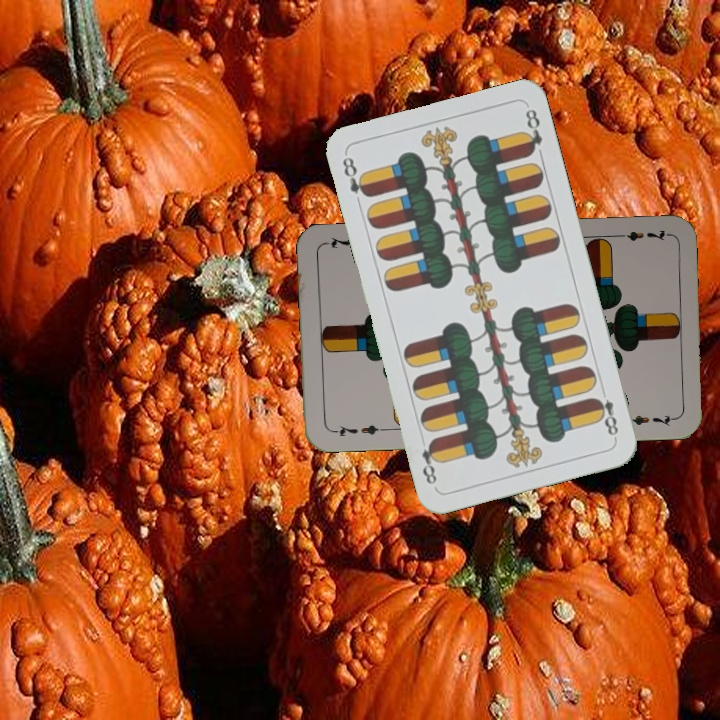E7: (328, 420, 387, 439), (611, 225, 670, 244)
E8: (338, 153, 372, 200), (590, 393, 621, 441)
